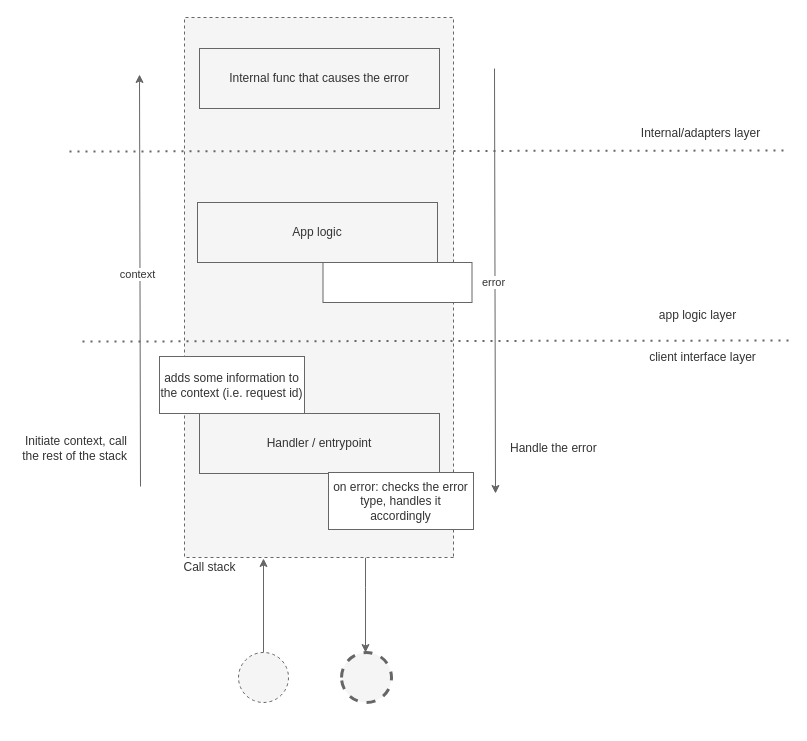
Some shapes in this 807 by 741 pixel diagram are drawn without their labels. The shapes that lost their labels are listed below. From the top down, each one's box as (x1, y1, x2, y2) in pixels, then its label:
(322, 262, 472, 302): on error: specify the error type
(238, 652, 288, 702): Input
(340, 652, 392, 702): Output
